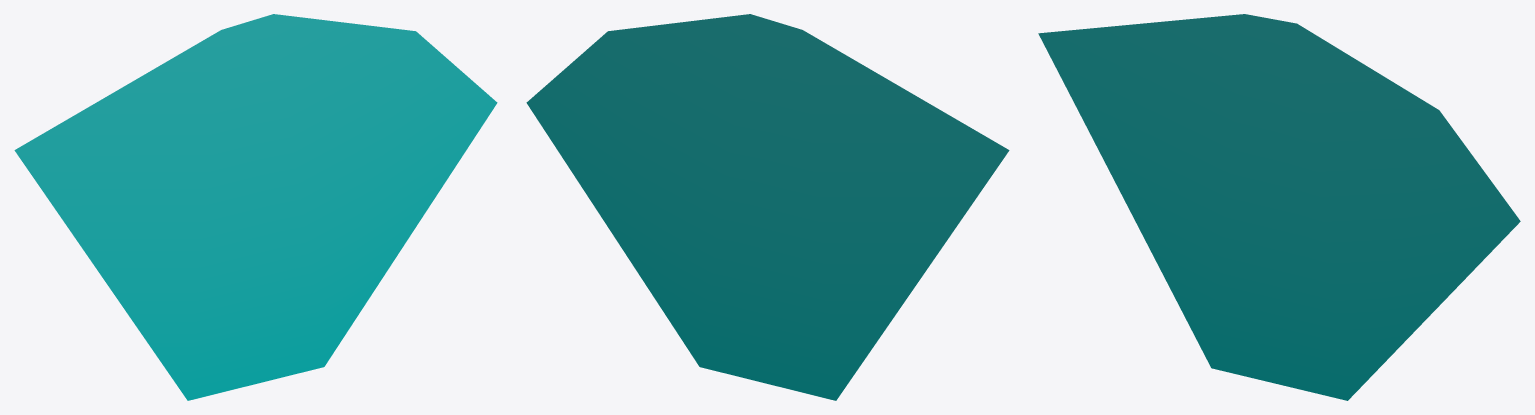
File: Sage_ve3gbfoja_Mid_ve3gbfoja_VarH_LOD3.fbx
The picture shows the model from 3 angles, left to right: view 1: azimuth 30°, elevation 25°; view 2: azimuth 150°, elevation 25°; view 3: azimuth 330°, elevation 25°; orthographic projection.
Visible parts, largest first — view 1: _y3o4_VarH_LOD5; view 2: _y3o4_VarH_LOD5; view 3: _y3o4_VarH_LOD5.
Boxes of the visible parts, x1,y1,x2,y2 form: _y3o4_VarH_LOD5: [14, 14, 497, 400]; _y3o4_VarH_LOD5: [526, 14, 1009, 400]; _y3o4_VarH_LOD5: [1038, 14, 1520, 400].
Bounding box in the file's own units: 39.35 × 28.48 × 0.
